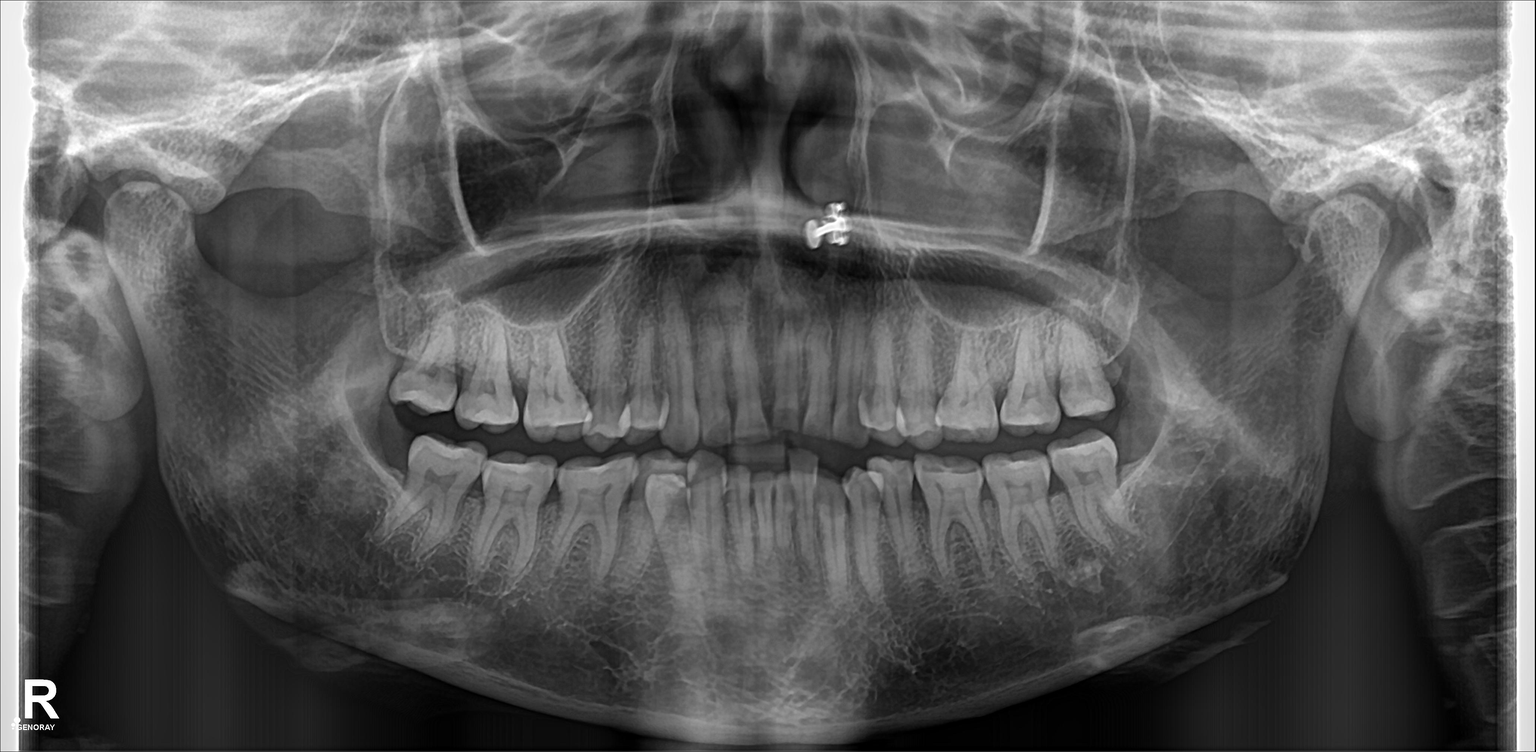Missing Tooth: (367, 402, 416, 533), (1119, 415, 1168, 530)
